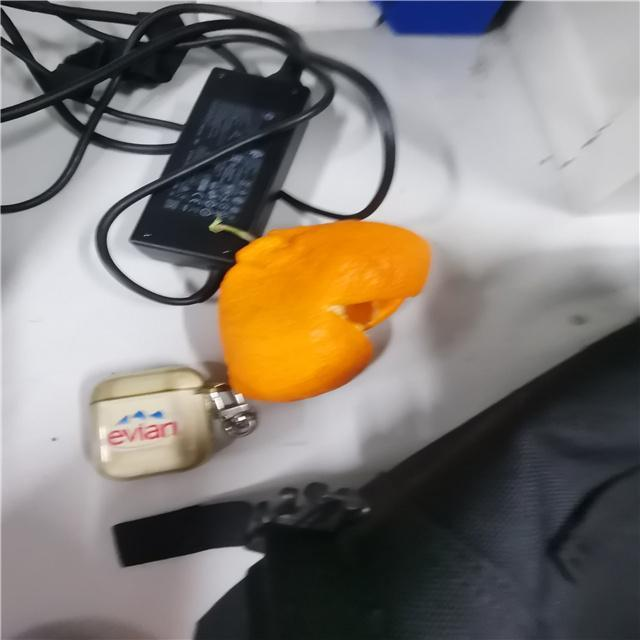orange-peel: (215, 216, 432, 402)
